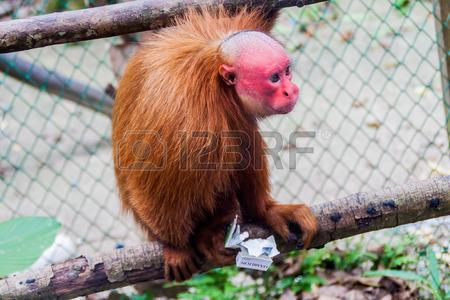monkey: (114, 4, 321, 281)
